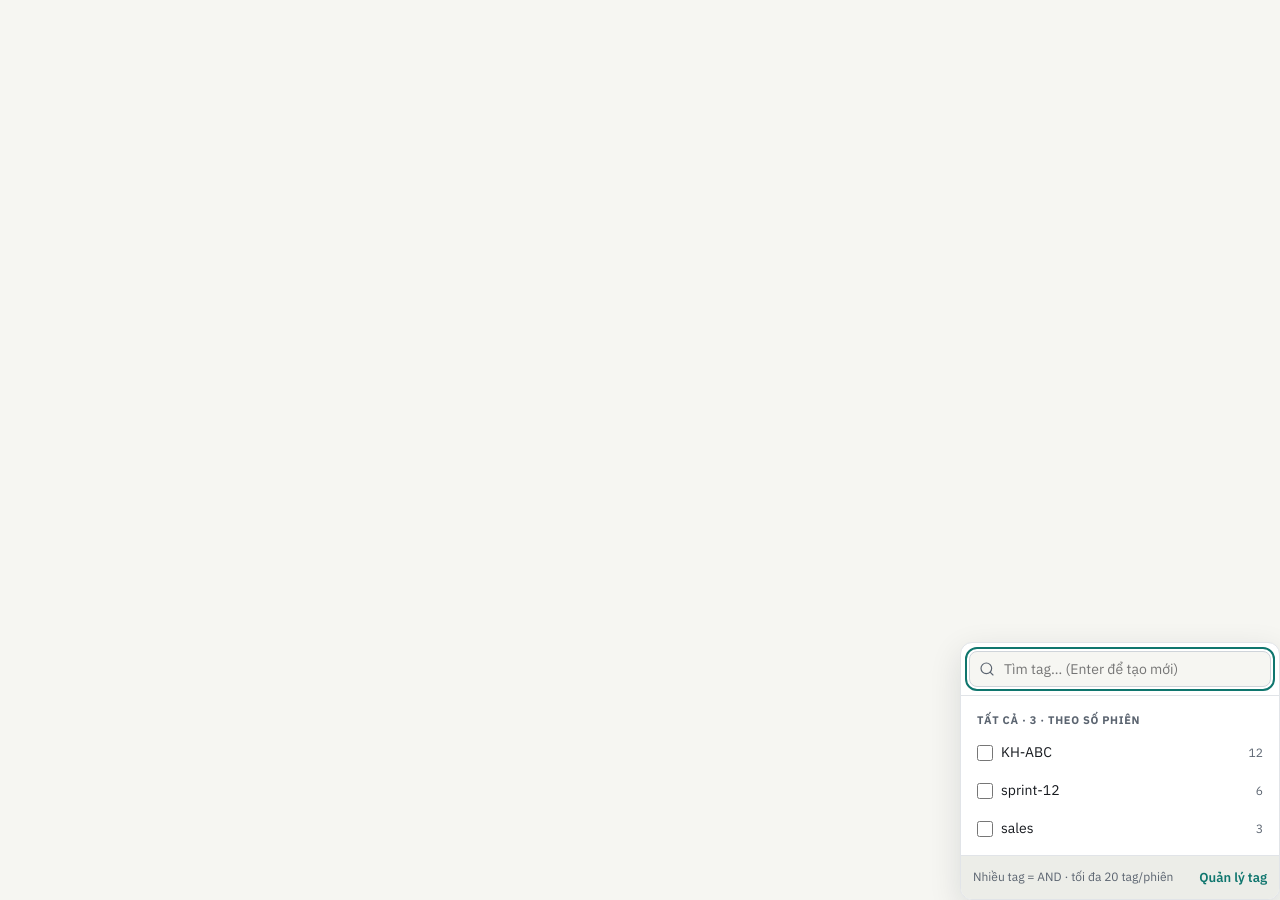
Test: TagPicker › opens "Quản lý tag" and lists every tag with a delete button
(page scrolled)
Step 1. Click the button "Quản lý tag" → (1233, 877), box [1199,868,1267,887]
(page scrolled)
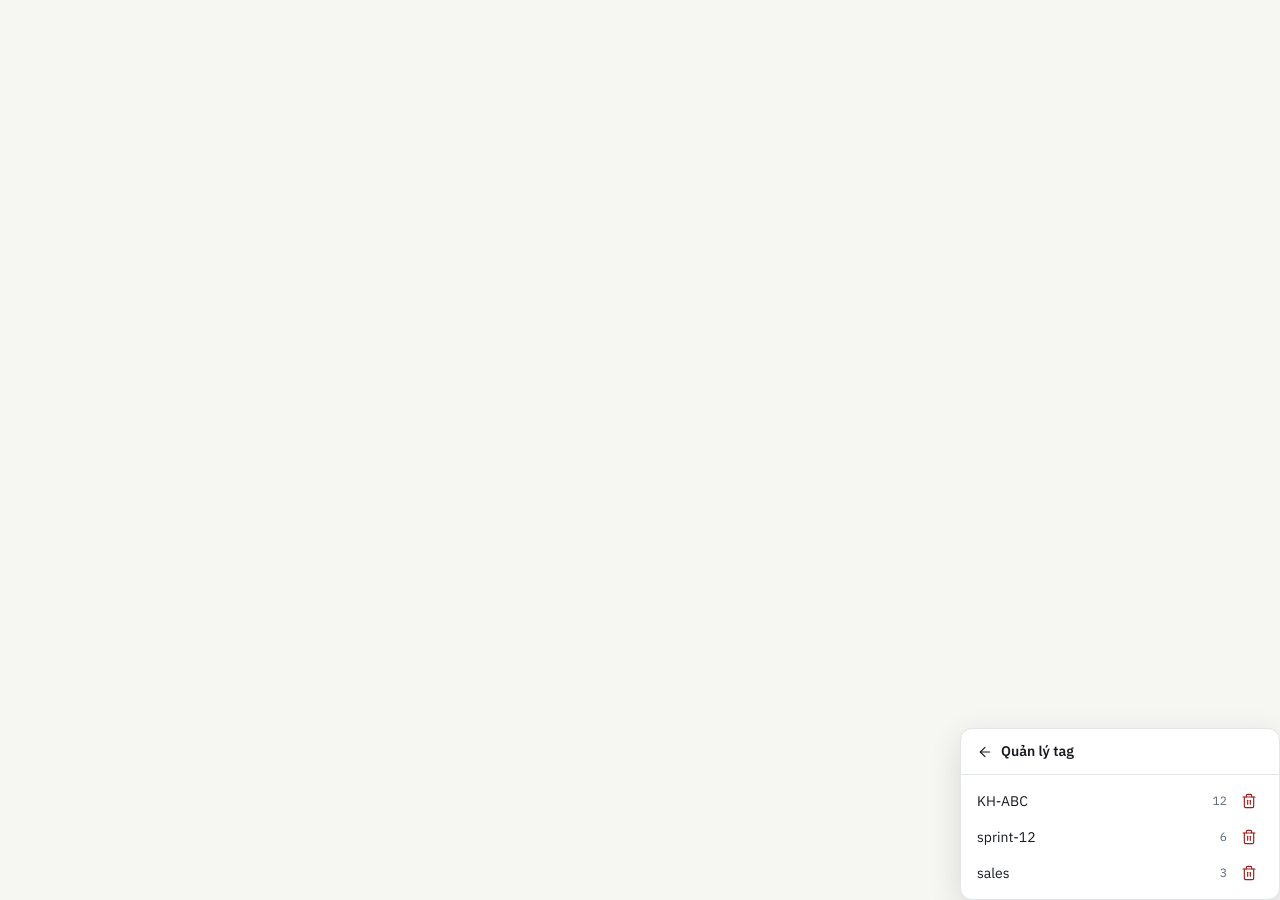
Expected: the text "Quản lý tag" is shown, [1001,741,1074,762]
Now the button named "Xoá tag KH-ABC" is shown, box [1235,787,1263,815]
Now the button named "Xoá tag sprint-12" is shown, box [1235,823,1263,851]
